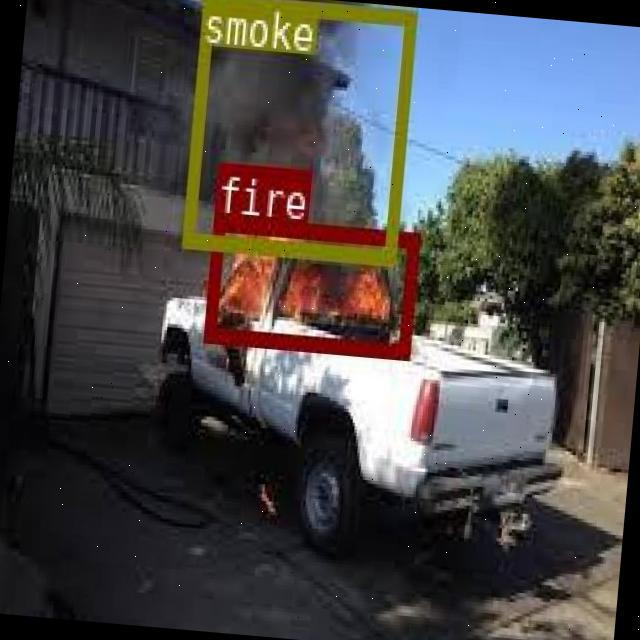fire: (201, 212, 417, 354)
smoke: (181, 0, 414, 263)
